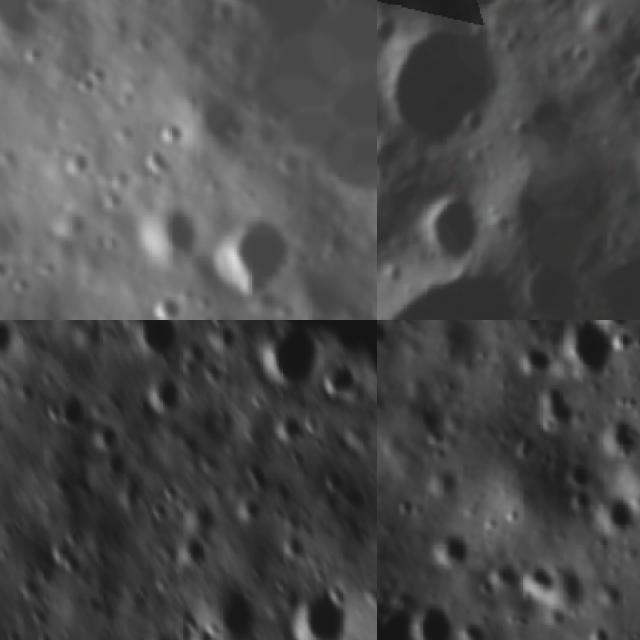crater: (195, 0, 377, 221), (383, 24, 504, 160), (206, 206, 301, 306), (377, 274, 554, 320), (508, 247, 609, 320), (248, 320, 333, 394), (412, 192, 492, 268), (285, 570, 356, 640), (134, 194, 203, 262), (123, 320, 194, 365), (208, 587, 265, 640), (564, 322, 614, 373), (51, 380, 93, 434), (141, 376, 192, 420), (616, 33, 640, 116), (174, 533, 214, 579), (137, 281, 184, 320), (377, 198, 397, 284), (48, 538, 90, 578), (263, 410, 307, 448), (86, 419, 126, 456), (409, 604, 448, 640), (377, 0, 426, 26), (599, 420, 640, 451), (521, 565, 558, 598), (0, 320, 25, 367), (429, 536, 469, 565), (278, 530, 311, 564), (233, 490, 269, 520), (453, 0, 513, 17), (608, 501, 634, 534), (555, 461, 587, 486), (568, 492, 599, 514), (322, 468, 348, 493), (150, 500, 173, 526), (164, 484, 182, 506)
